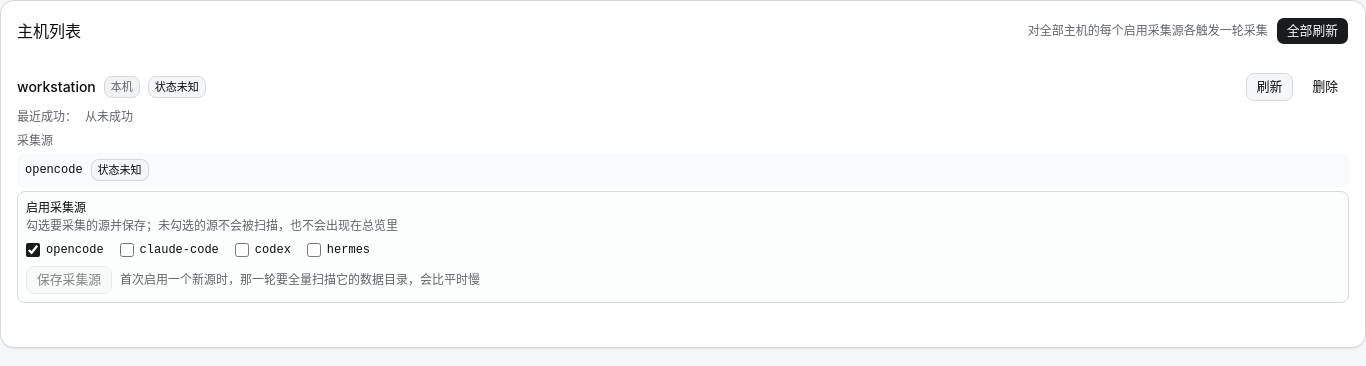
Test: HostList 采集源勾选 › 保存时把完整的启用集合以数组形式传给 hosts_update
The image size is (1366, 366).
Click the checkbox labelled "codex".
click(242, 250)  # box x1=235 y1=243 x2=249 y2=257
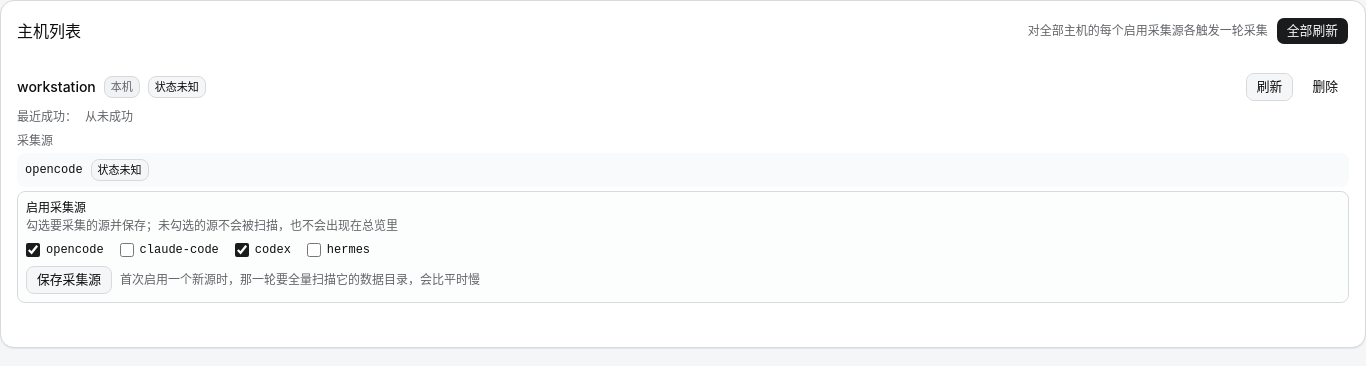
Now the button with test id "host-sources-save-local-host-000001" is enabled
Click the button with test id "host-sources-save-local-host-000001".
click(69, 280)  # box x1=26 y1=266 x2=112 y2=294
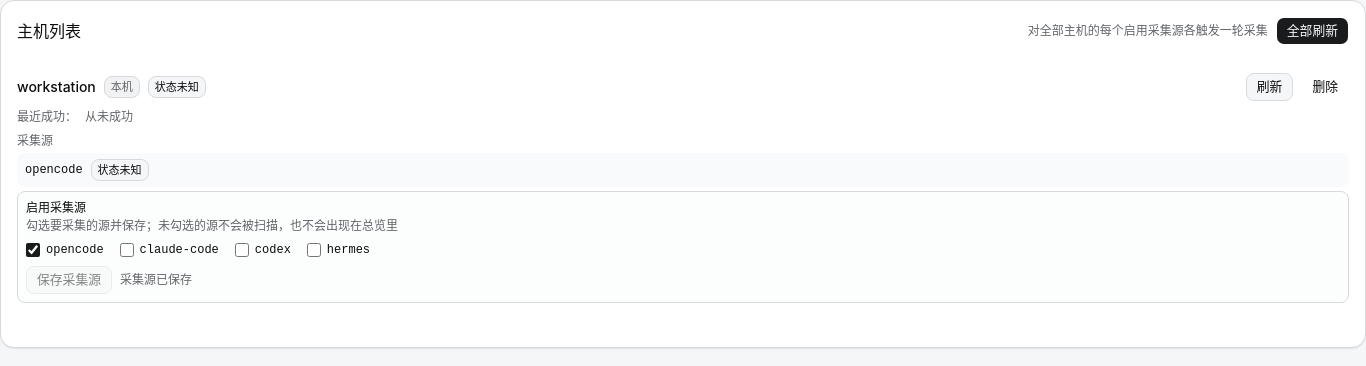
Now the text "采集源已保存" is shown, box x1=120 y1=272 x2=192 y2=288
